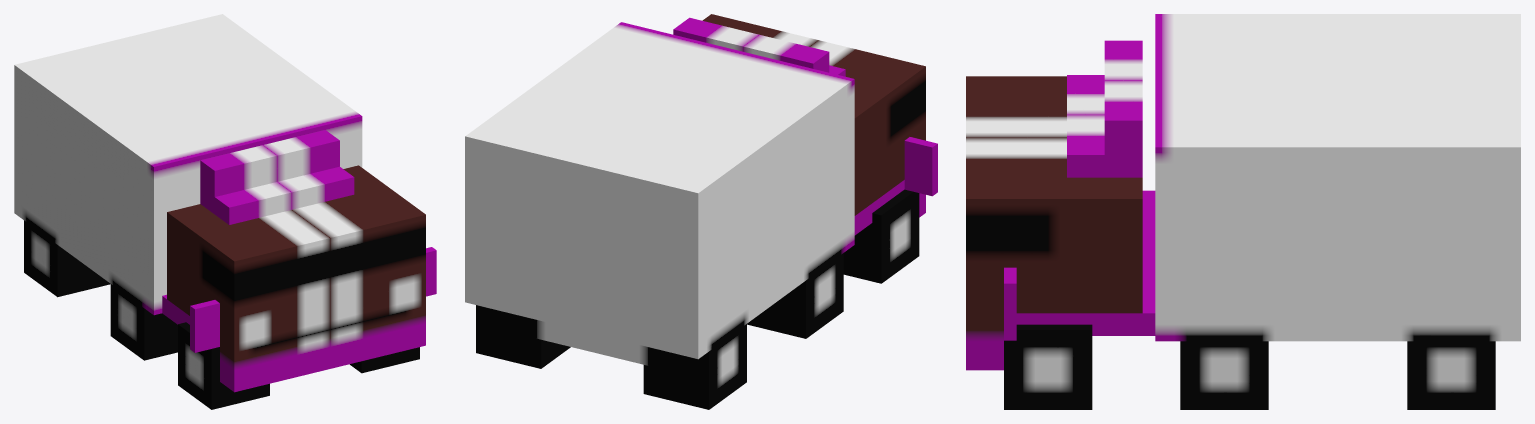
The model's file is Car_52.fbx.
3 views of the same model, side by side, from view 1: azimuth 30°, elevation 25°; view 2: azimuth 150°, elevation 25°; view 3: azimuth 270°, elevation 25° (orthographic). The views are drawn at different scales.
Visible parts, largest first — view 1: Car_52; view 2: Car_52; view 3: Car_52.
Part boxes in pixels (x1,y1,x2,y2): Car_52: (14, 14, 436, 409); Car_52: (465, 14, 937, 409); Car_52: (966, 14, 1520, 409).
Bounding box in the file's own units: 29 × 23 × 44.
1 material, 1 textured.
